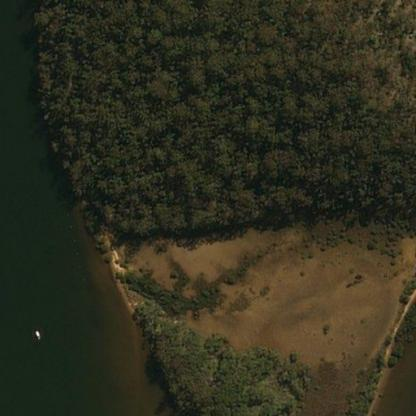ship: (30, 322, 46, 343)
